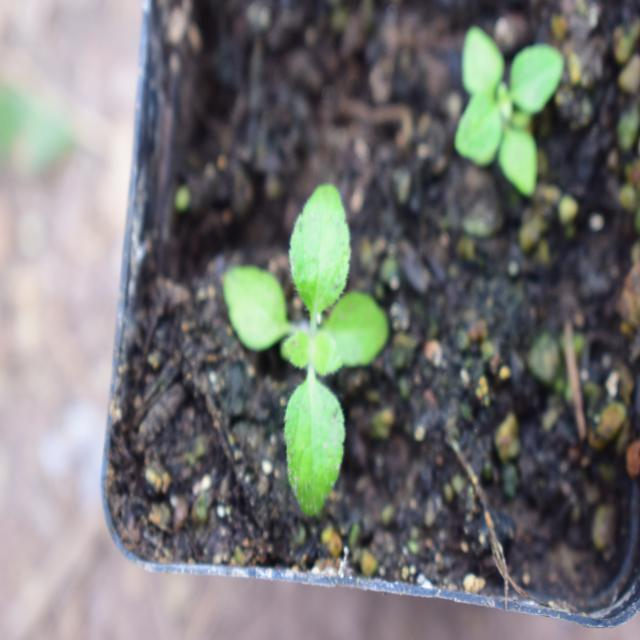billygoat_weed: (218, 163, 388, 521)
